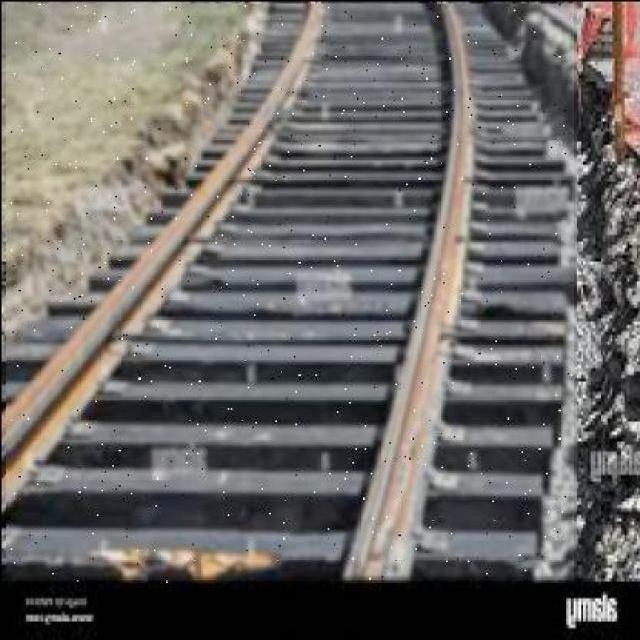rail: (7, 5, 575, 582)
